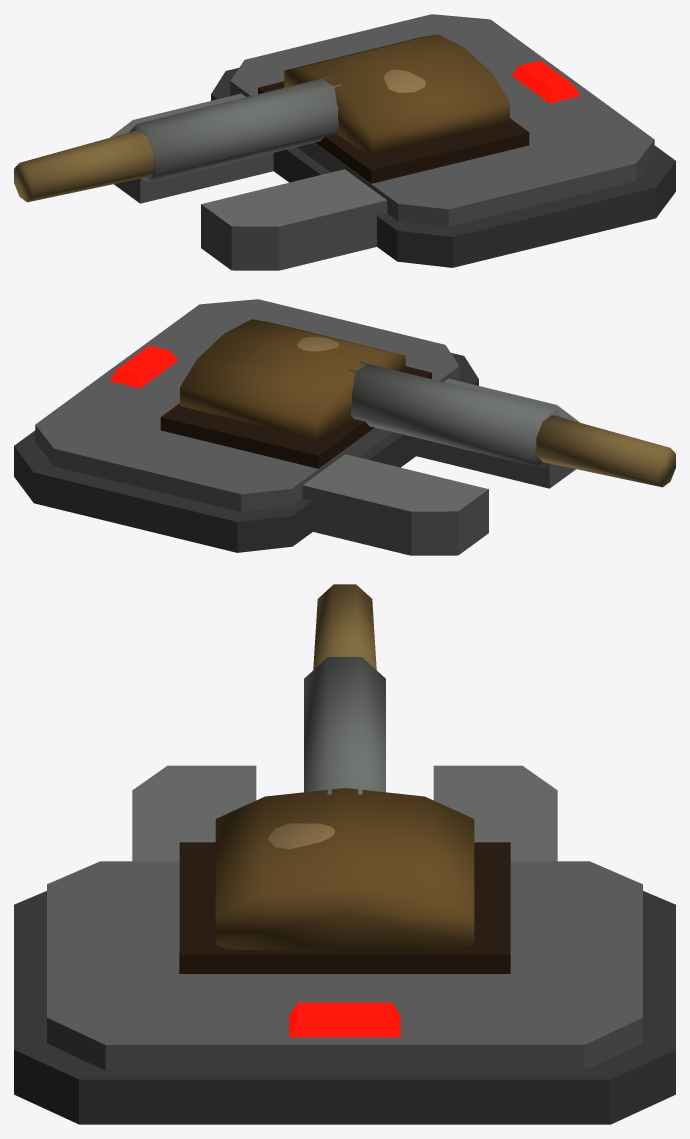
File: newshp-13-f4.glb
3 views of the same model, one above another, from view 1: azimuth 30°, elevation 25°; view 2: azimuth 150°, elevation 25°; view 3: azimuth 270°, elevation 25° (orthographic). The views are drawn at different scales.
Visible parts, largest first — view 1: newshp-13-f4; view 2: newshp-13-f4; view 3: newshp-13-f4.
Part boxes in pixels (x1,y1,x2,y2): newshp-13-f4: [14, 14, 675, 270]; newshp-13-f4: [14, 299, 675, 555]; newshp-13-f4: [14, 584, 675, 1124].
Bounding box in the file's own units: 1.33 × 0.24 × 0.9333.
